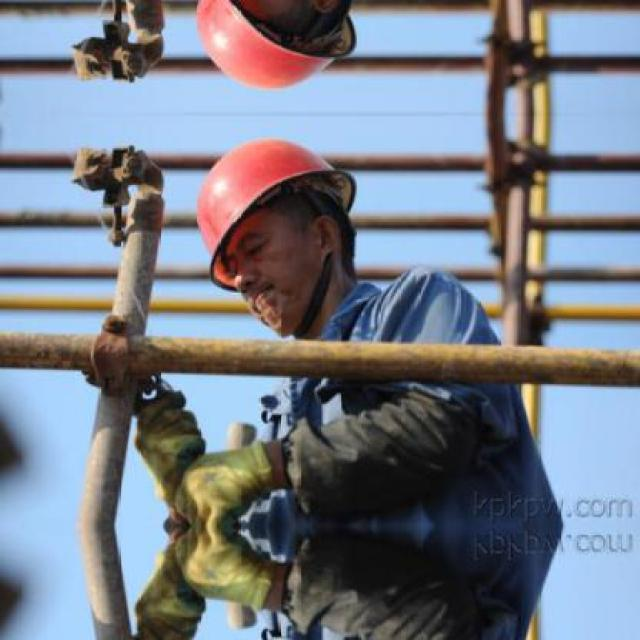helmet: (162, 119, 364, 333), (161, 0, 364, 109)
